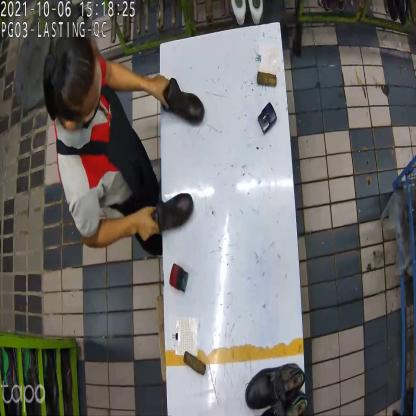shoes: (151, 76, 207, 228), (242, 364, 306, 416)
stamp: (258, 100, 278, 134), (171, 264, 191, 296)
